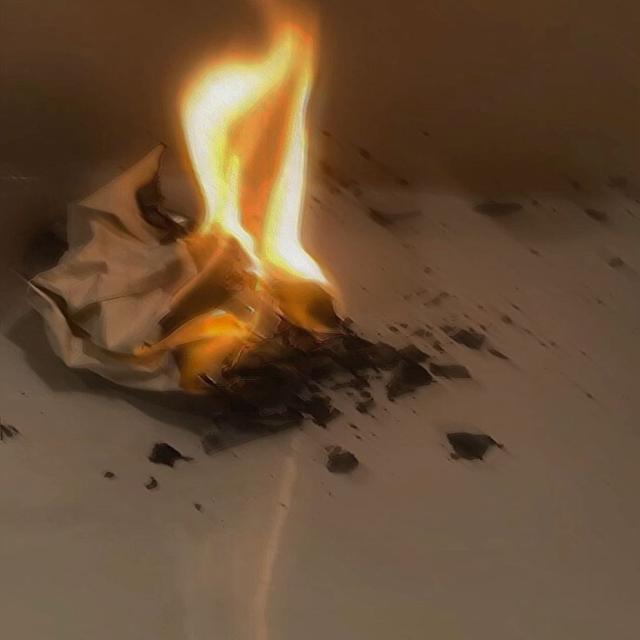fire: (184, 9, 324, 274), (133, 309, 247, 386)
